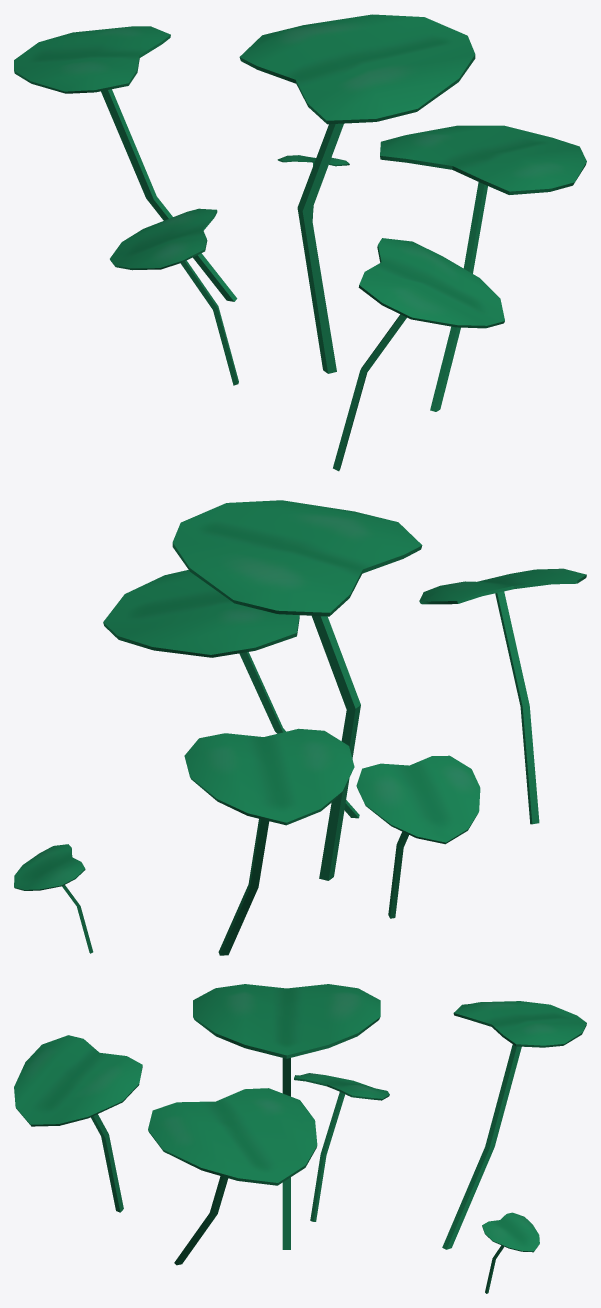
Rendered from Herbe_B.fbx.
3 views of the same model, one above another, from view 1: azimuth 30°, elevation 25°; view 2: azimuth 150°, elevation 25°; view 3: azimuth 270°, elevation 25° (orthographic). The views are drawn at different scales.
Parts seen in each view (by area): view 1: Herbe_B; view 2: Herbe_B; view 3: Herbe_B.
Part boxes in pixels (x1=…): Herbe_B: x1=14, y1=14, x2=586, y2=471; Herbe_B: x1=14, y1=500, x2=586, y2=955; Herbe_B: x1=14, y1=984, x2=586, y2=1293.
Bounding box in the file's own units: 29.59 × 22.84 × 45.32.
Materials: 1 (1 with a texture image).
